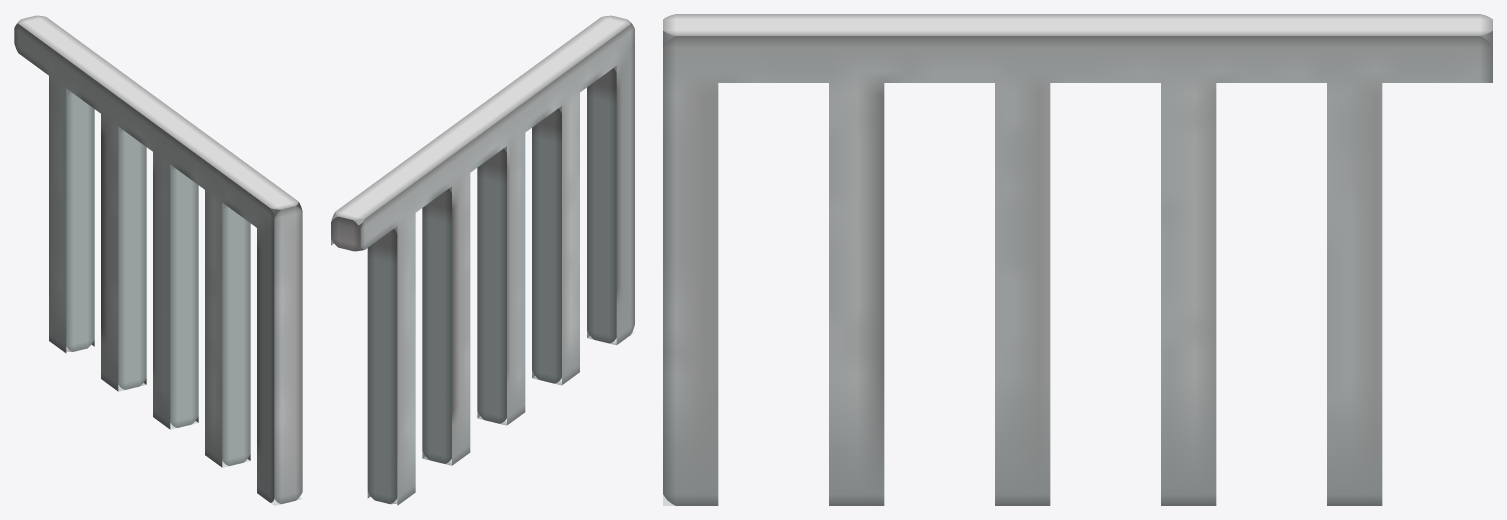
Rendered from WhiteFence 1.fbx.
3 renders of one model, left to right at view 1: azimuth 30°, elevation 25°; view 2: azimuth 150°, elevation 25°; view 3: azimuth 270°, elevation 25°, orthographic. The views are drawn at different scales.
Parts seen in each view (by area): view 1: plane; view 2: plane; view 3: plane.
Boxes of the visible parts, x1,y1,x2,y2 form: plane: (14, 15, 302, 505); plane: (331, 15, 634, 505); plane: (663, 14, 1492, 505).
Bounding box in the file's own units: 6.25 × 62.5 × 100.
1 material, 1 textured.
